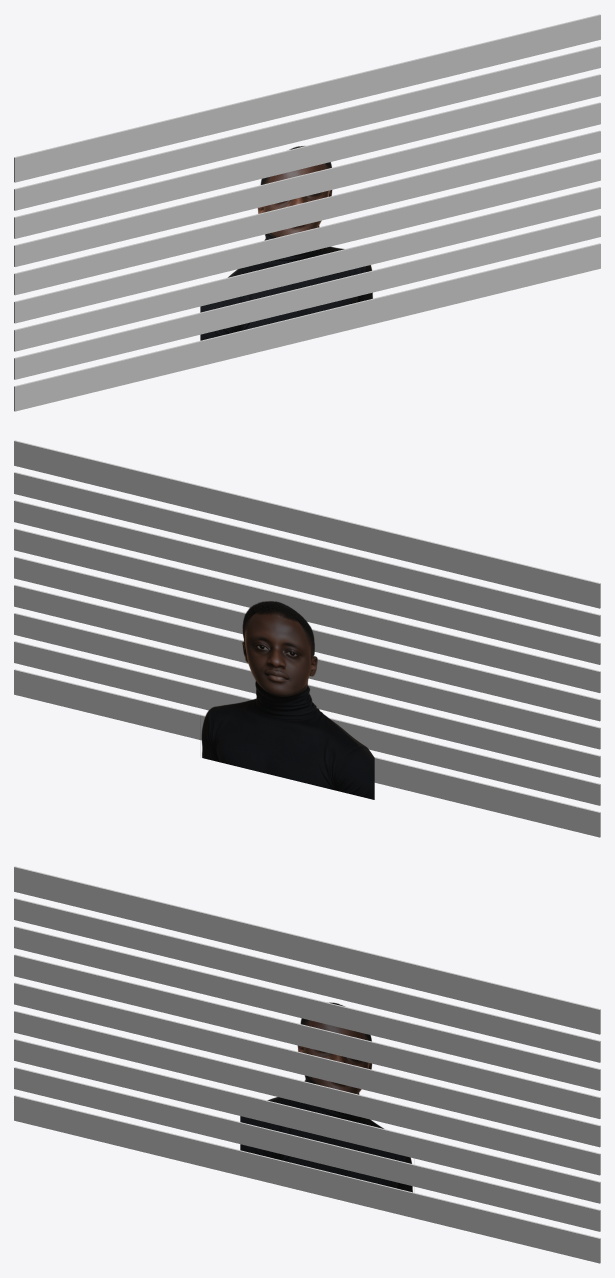
The model's file is hero1.glb.
3 views of the same model, one above another, from view 1: azimuth 30°, elevation 25°; view 2: azimuth 150°, elevation 25°; view 3: azimuth 330°, elevation 25° (orthographic).
Parts seen in each view (by area): view 1: Heavy Blur, Medium Blur, Light Blur, Plane; view 2: Heavy Blur, Medium Blur, Plane, Light Blur; view 3: Heavy Blur, Medium Blur, Light Blur, Plane.
Part boxes in pixels (box(x1,y1,x2,y2)): Heavy Blur: box(14, 14, 600, 411); Medium Blur: box(185, 56, 430, 369); Light Blur: box(263, 75, 351, 350); Plane: box(200, 146, 372, 340); Heavy Blur: box(14, 440, 600, 837); Medium Blur: box(184, 482, 429, 795); Plane: box(201, 601, 374, 799); Light Blur: box(263, 501, 351, 735); Heavy Blur: box(14, 866, 600, 1263); Medium Blur: box(184, 908, 429, 1221); Light Blur: box(263, 927, 351, 1202); Plane: box(240, 1002, 412, 1192).
Size of the model in its own units: 21.13 by 8.74 by 1.28.
Materials: 1 (1 with a texture image).
